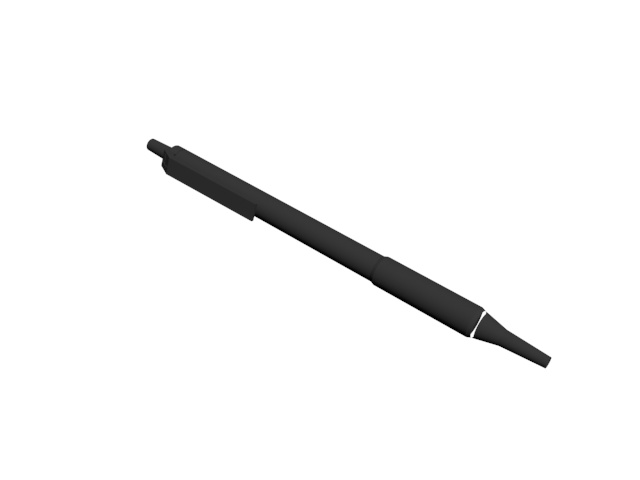pen: (145, 137, 552, 376)
